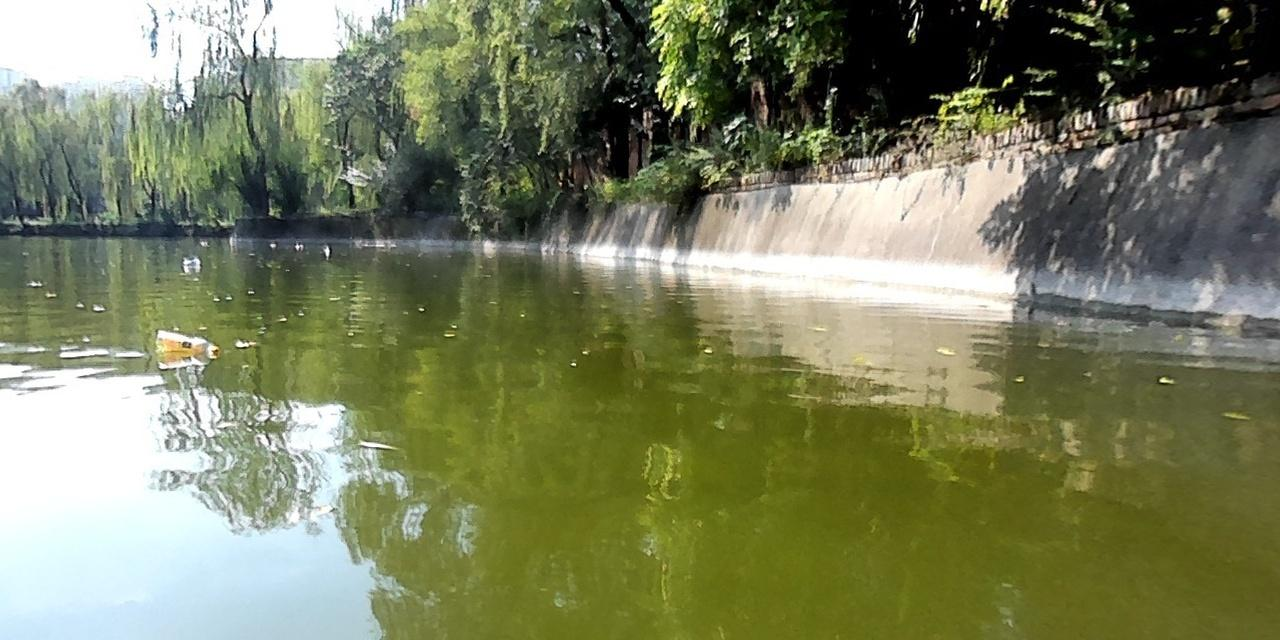bottle: (152, 327, 222, 357), (180, 255, 201, 269), (319, 241, 332, 257)
